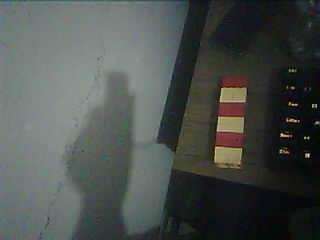lego: (213, 75, 249, 170)
